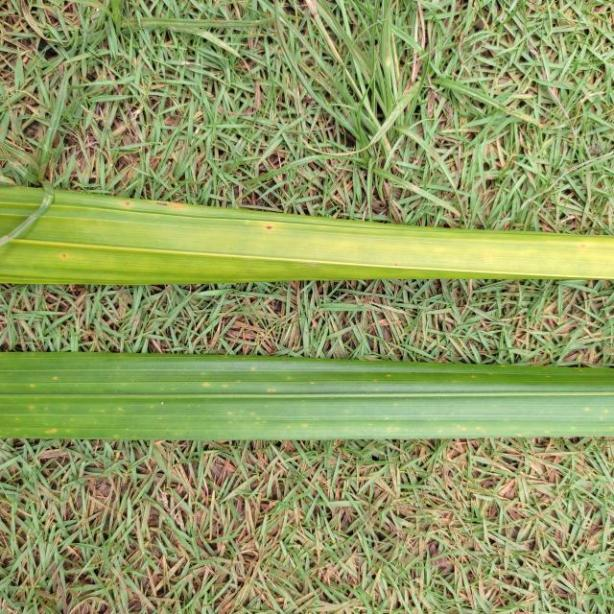nitrogen: (0, 186, 614, 290), (0, 355, 614, 441)
